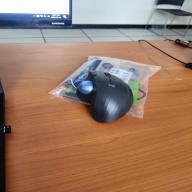mouse: (72, 69, 143, 126)
